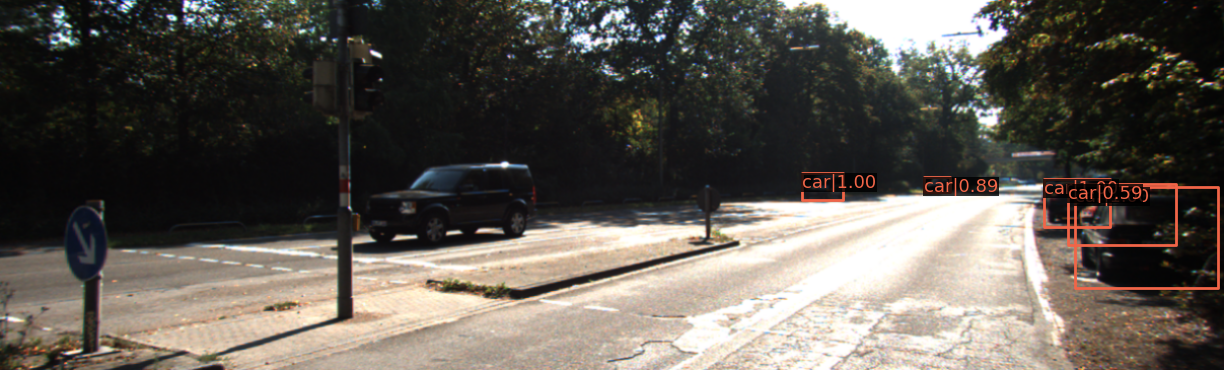car: (1073, 192, 1222, 292), (1071, 184, 1190, 258), (805, 176, 849, 203)
